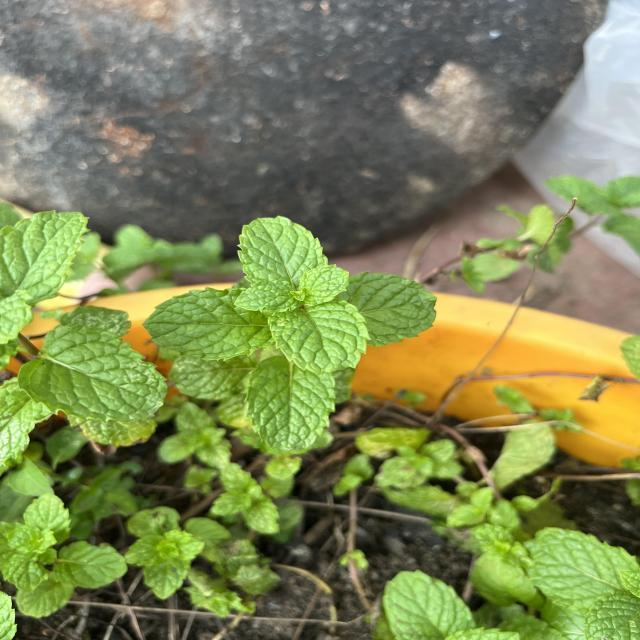Mentha spicata: (17, 323, 168, 424), (244, 356, 338, 452), (141, 286, 259, 362), (266, 300, 372, 374), (236, 214, 328, 283), (233, 278, 300, 314), (297, 263, 351, 306)
